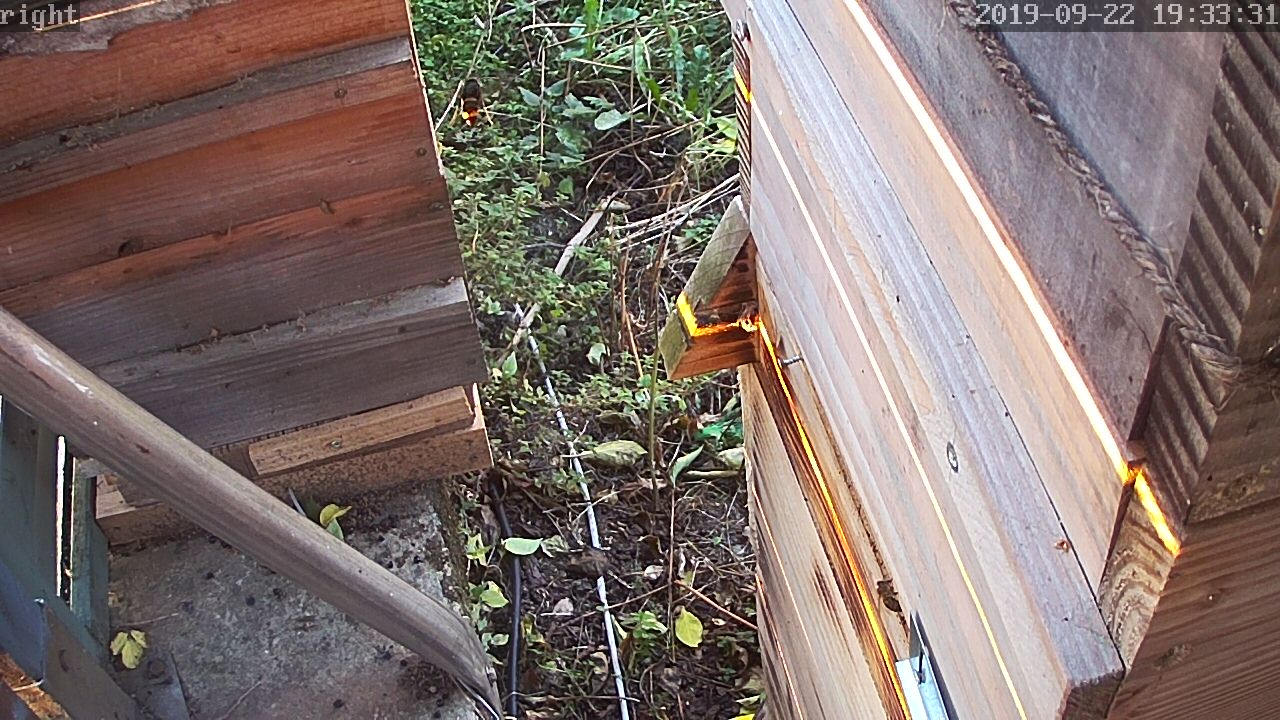bee: (863, 574, 908, 622)
hornet: (446, 65, 486, 130)
